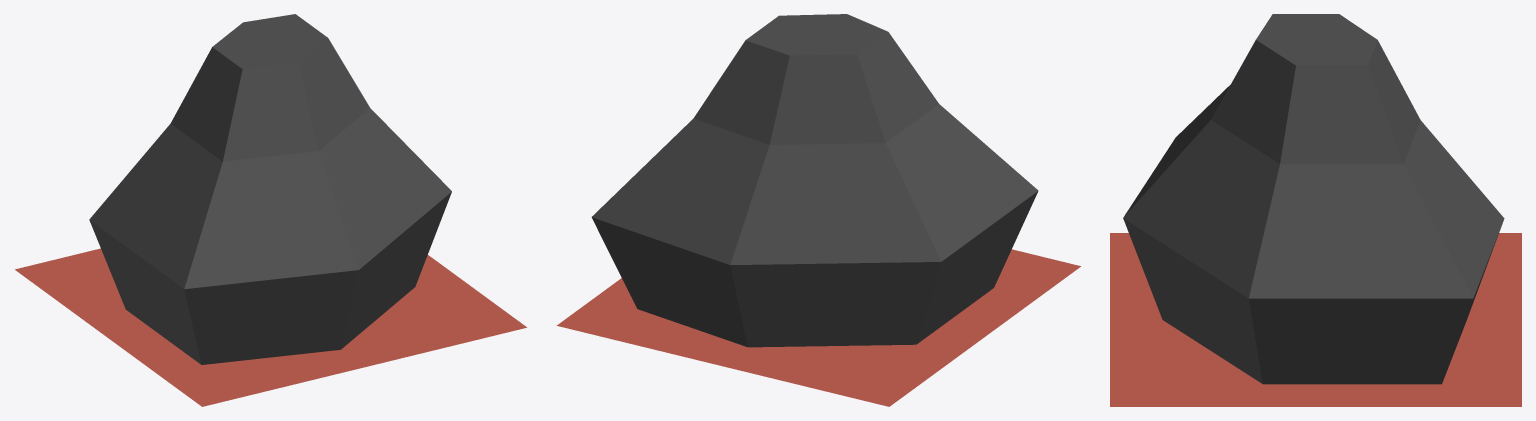
The model's file is akadaly.glb.
3 renders of one model, left to right at view 1: azimuth 30°, elevation 25°; view 2: azimuth 150°, elevation 25°; view 3: azimuth 270°, elevation 25°, orthographic. The views are drawn at different scales.
Parts seen in each view (by area): view 1: Plane; view 2: Plane; view 3: Plane.
Part boxes in pixels (x1,y1,x2,y2): Plane: [15, 14, 526, 406]; Plane: [556, 14, 1080, 406]; Plane: [1110, 14, 1521, 406].
Bounding box in the file's own units: 2 × 1.5 × 2.
